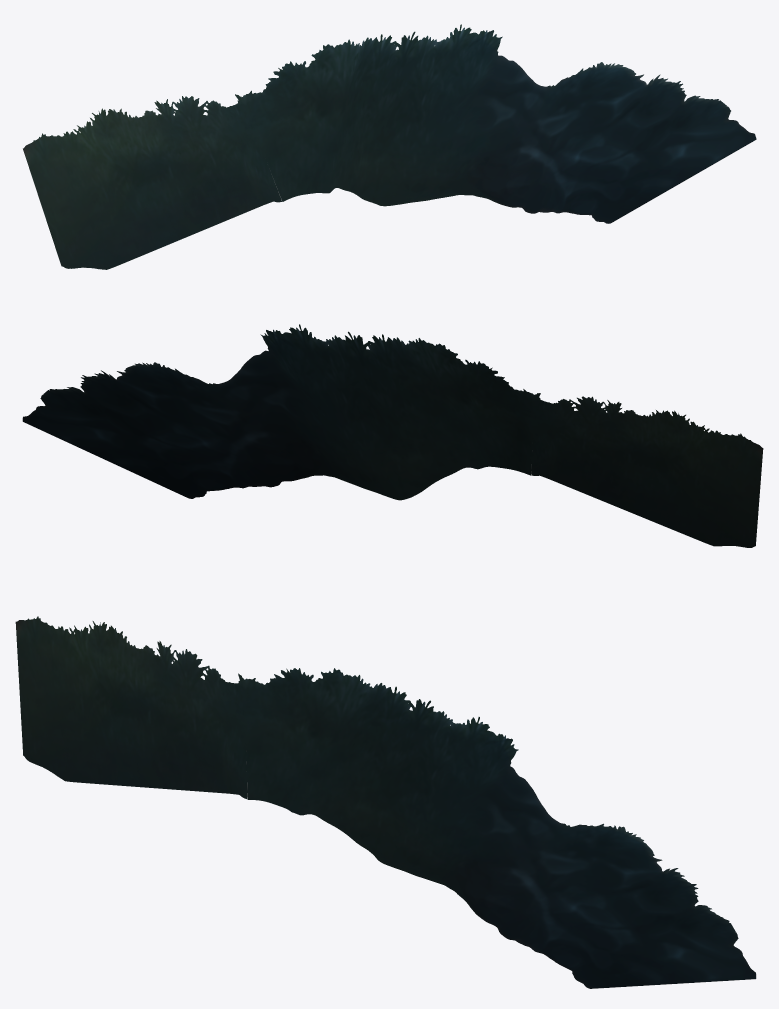
File: Grass Part 4 BG.FBX
The picture shows the model from 3 angles, top to bottom: view 1: azimuth 30°, elevation 25°; view 2: azimuth 150°, elevation 25°; view 3: azimuth 330°, elevation 25°; orthographic projection. The views are drawn at different scales.
Visible parts, largest first — view 1: Grass Part 4 BG; view 2: Grass Part 4 BG; view 3: Grass Part 4 BG.
Part boxes in pixels (box(x1,y1,x2,y2)): Grass Part 4 BG: box(23, 24, 756, 269); Grass Part 4 BG: box(22, 324, 763, 547); Grass Part 4 BG: box(15, 616, 756, 988).
Bounding box in the file's own units: 1391 × 74.75 × 446.
